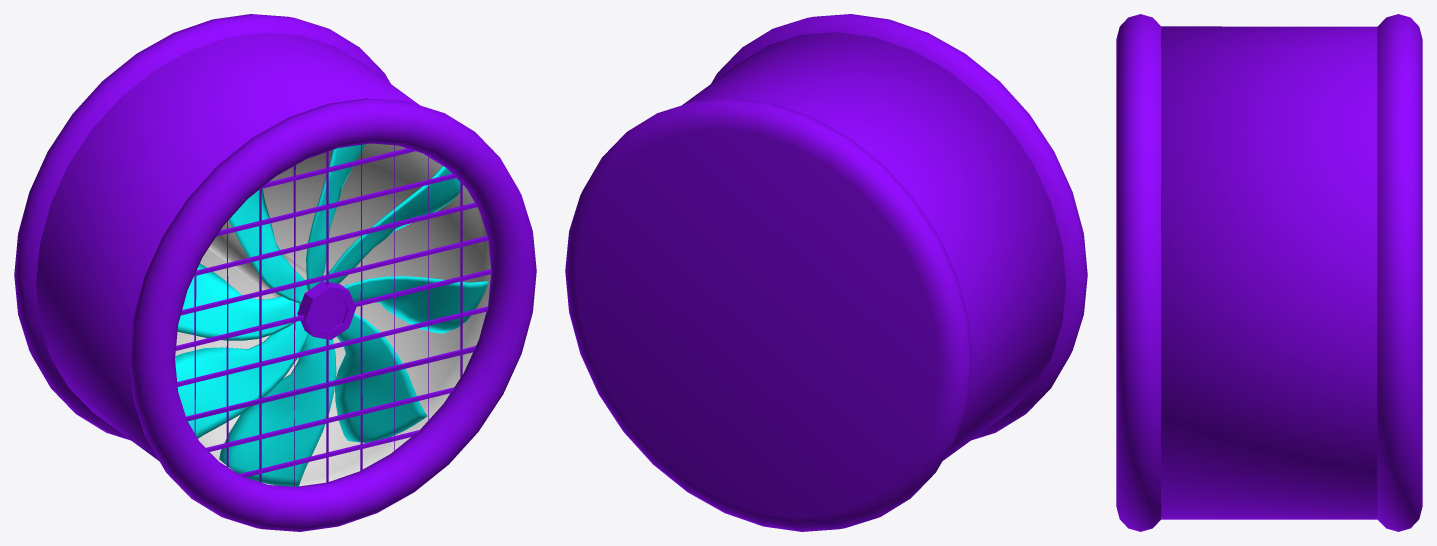
File: Fan_Purple_Cyan.glb
The picture shows the model from 3 angles, left to right: view 1: azimuth 30°, elevation 25°; view 2: azimuth 150°, elevation 25°; view 3: azimuth 270°, elevation 25°; orthographic projection. The views are drawn at different scales.
Parts seen in each view (by area): view 1: Fan_Purple_Cyan, Plane.001; view 2: Fan_Purple_Cyan; view 3: Fan_Purple_Cyan.
Boxes of the visible parts, <box> form: Fan_Purple_Cyan: <box>14,14,536,531</box>; Plane.001: <box>175,144,488,486</box>; Fan_Purple_Cyan: <box>565,14,1087,531</box>; Fan_Purple_Cyan: <box>1116,14,1422,531</box>.
Size of the model in its own units: 2.23 by 2.23 by 1.32.
